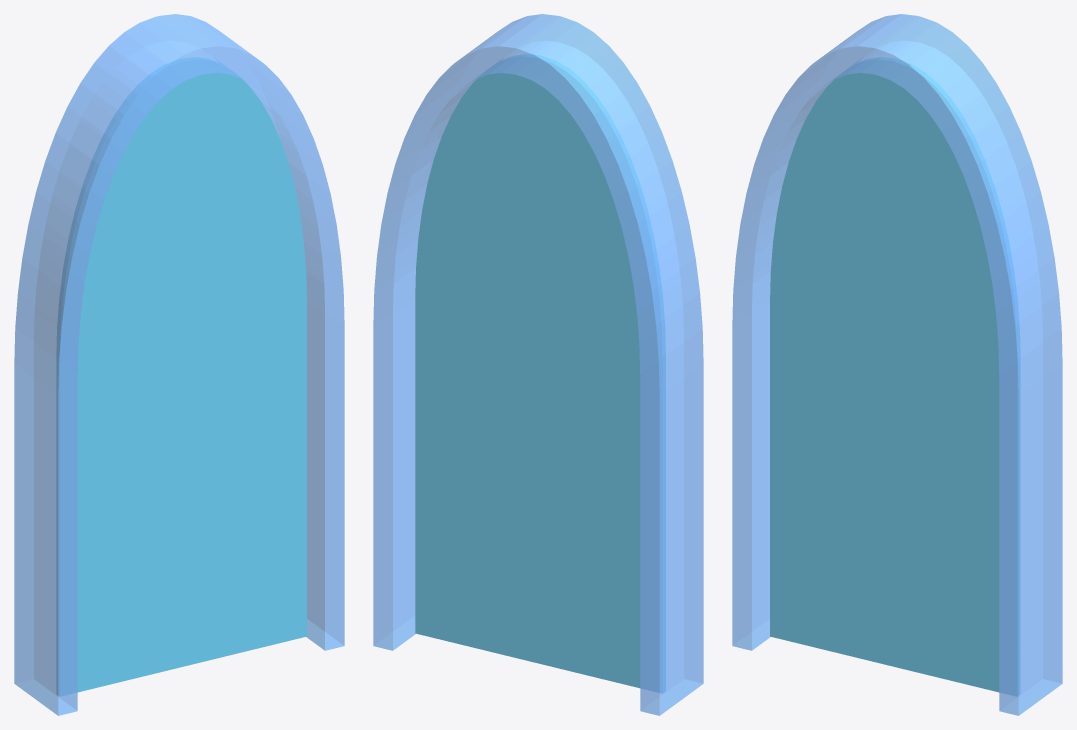
File: portal.gltf
3 views of the same model, side by side, from view 1: azimuth 30°, elevation 25°; view 2: azimuth 150°, elevation 25°; view 3: azimuth 330°, elevation 25° (orthographic).
Parts seen in each view (by area): view 1: Plane.001, Plane; view 2: Plane.001, Plane; view 3: Plane.001, Plane.
Part boxes in pixels (box(x1,y1,x2,y2)): Plane.001: box(57, 57, 306, 695); Plane: box(14, 14, 344, 715); Plane.001: box(415, 54, 665, 692); Plane: box(373, 14, 703, 715); Plane.001: box(770, 57, 1020, 695); Plane: box(732, 14, 1062, 715).
Bounding box in the file's own units: 0.6204 × 1.31 × 0.165.
